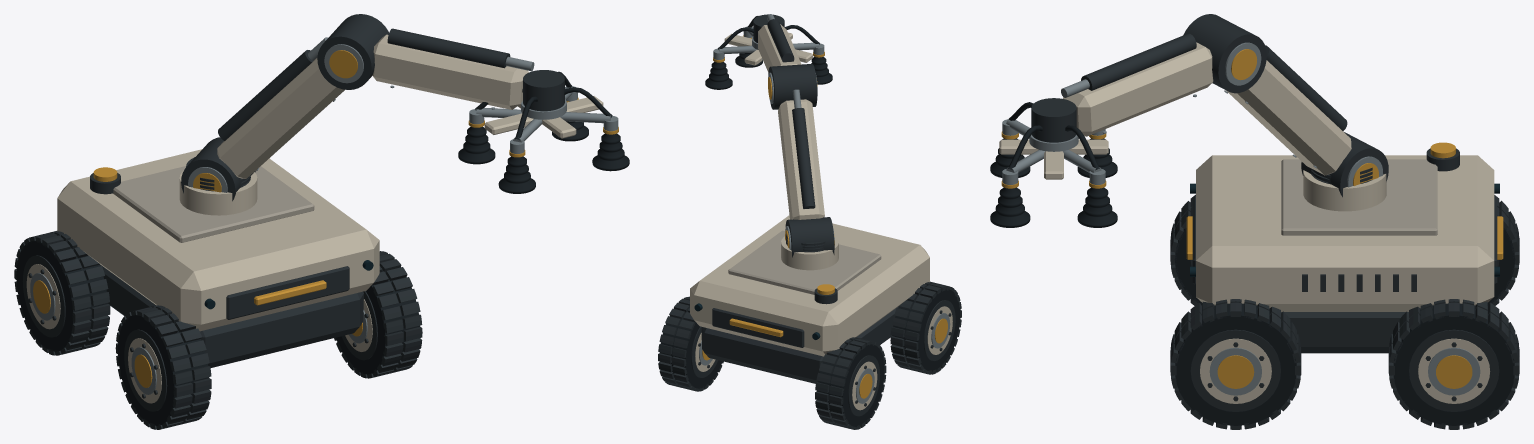
Rendered from cup_d0_lod0.meshopt.glb.
The picture shows the model from 3 angles, left to right: view 1: azimuth 30°, elevation 25°; view 2: azimuth 150°, elevation 25°; view 3: azimuth 270°, elevation 25°; orthographic projection. The views are drawn at different scales.
Parts seen in each view (by area): view 1: CUP_CHASSIS_SURFACE, CUP_ARM_FORE_SURFACE, CUP_WHEEL_FL_SURFACE, CUP_ARM_UPPER_SURFACE, CUP_WHEEL_RL_SURFACE, CUP_WHEEL_FR_SURFACE, CUP_TOOL_SURFACE, CUP_TURNTABLE_SURFACE, CUP_PAD_RL_SURFACE, CUP_PAD_FR_SURFACE, CUP_PAD_FL_SURFACE; view 2: CUP_CHASSIS_SURFACE, CUP_ARM_UPPER_SURFACE, CUP_WHEEL_RL_SURFACE, CUP_WHEEL_FL_SURFACE, CUP_WHEEL_RR_SURFACE, CUP_ARM_FORE_SURFACE, CUP_TOOL_SURFACE, CUP_TURNTABLE_SURFACE, CUP_PAD_RR_SURFACE, CUP_PAD_FL_SURFACE; view 3: CUP_CHASSIS_SURFACE, CUP_WHEEL_RR_SURFACE, CUP_WHEEL_FR_SURFACE, CUP_ARM_FORE_SURFACE, CUP_ARM_UPPER_SURFACE, CUP_TOOL_SURFACE, CUP_TURNTABLE_SURFACE, CUP_WHEEL_RL_SURFACE, CUP_WHEEL_FL_SURFACE, CUP_PAD_FR_SURFACE, CUP_PAD_RR_SURFACE, CUP_PAD_FL_SURFACE (+1 smaller).
Part boxes in pixels (left/top/right/bottom): CUP_CHASSIS_SURFACE: left=57, top=149, right=379, bottom=367; CUP_ARM_FORE_SURFACE: left=317, top=14, right=534, bottom=109; CUP_WHEEL_FL_SURFACE: left=115, top=305, right=211, bottom=429; CUP_ARM_UPPER_SURFACE: left=181, top=37, right=344, bottom=201; CUP_WHEEL_RL_SURFACE: left=14, top=231, right=110, bottom=355; CUP_WHEEL_FR_SURFACE: left=334, top=251, right=422, bottom=378; CUP_TOOL_SURFACE: left=468, top=70, right=618, bottom=157; CUP_TURNTABLE_SURFACE: left=179, top=157, right=257, bottom=215; CUP_PAD_RL_SURFACE: left=458, top=126, right=495, bottom=164; CUP_PAD_FR_SURFACE: left=592, top=133, right=629, bottom=171; CUP_PAD_FL_SURFACE: left=498, top=156, right=535, bottom=193; CUP_CHASSIS_SURFACE: left=690, top=215, right=929, bottom=383; CUP_ARM_UPPER_SURFACE: left=778, top=89, right=834, bottom=257; CUP_WHEEL_RL_SURFACE: left=815, top=337, right=886, bottom=429; CUP_WHEEL_FL_SURFACE: left=890, top=281, right=961, bottom=374; CUP_WHEEL_RR_SURFACE: left=658, top=296, right=723, bottom=391; CUP_ARM_FORE_SURFACE: left=758, top=14, right=817, bottom=109; CUP_TOOL_SURFACE: left=713, top=14, right=824, bottom=65; CUP_TURNTABLE_SURFACE: left=781, top=233, right=838, bottom=270; CUP_PAD_RR_SURFACE: left=705, top=62, right=732, bottom=89; CUP_PAD_FL_SURFACE: left=811, top=56, right=832, bottom=84; CUP_CHASSIS_SURFACE: left=1186, top=142, right=1503, bottom=353; CUP_WHEEL_RR_SURFACE: left=1388, top=299, right=1519, bottom=429; CUP_WHEEL_FR_SURFACE: left=1170, top=299, right=1301, bottom=429; CUP_ARM_FORE_SURFACE: left=1061, top=14, right=1266, bottom=136; CUP_ARM_UPPER_SURFACE: left=1224, top=45, right=1388, bottom=197; CUP_TOOL_SURFACE: left=999, top=98, right=1108, bottom=188; CUP_TURNTABLE_SURFACE: left=1303, top=167, right=1386, bottom=211; CUP_WHEEL_RL_SURFACE: left=1487, top=195, right=1519, bottom=305; CUP_WHEEL_FL_SURFACE: left=1170, top=194, right=1202, bottom=305; CUP_PAD_FR_SURFACE: left=990, top=187, right=1030, bottom=227; CUP_PAD_RR_SURFACE: left=1077, top=187, right=1117, bottom=227; CUP_PAD_FL_SURFACE: left=990, top=138, right=1030, bottom=177.
Bounding box in the file's own units: 1.3 × 1.17 × 1.46.
